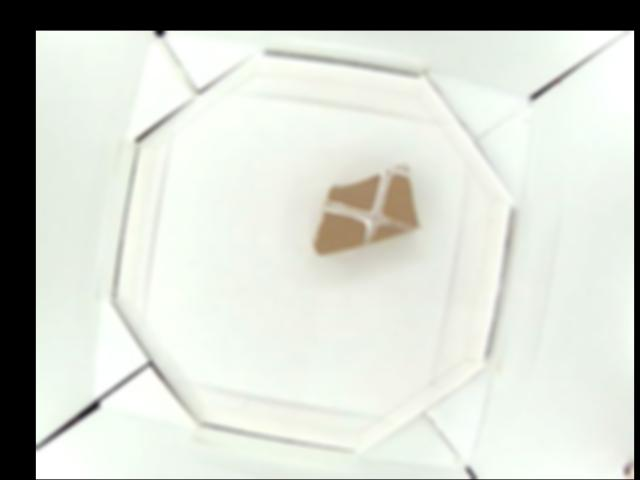China: (311, 161, 420, 256)
